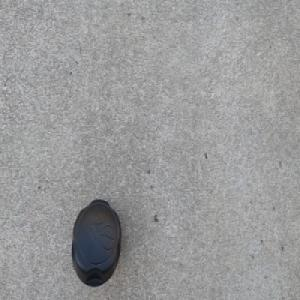FuelCap: (70, 198, 122, 290)
